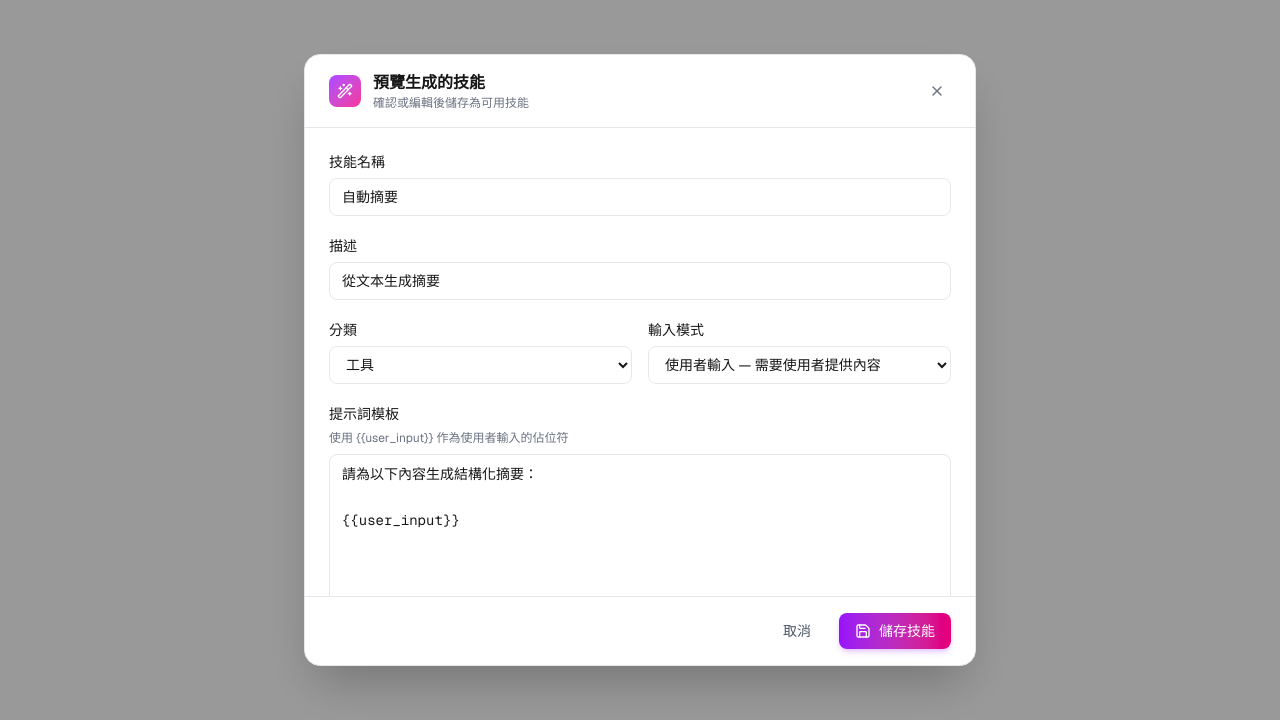
Scenario: SkillPreviewDialog › Skill Config Editor › should disable save button when display_name is too short
The width and height of the screenshot is (1280, 720).
Replace the text in the field with test id "skill-name-input" with "a" at [640, 197], box [329,178,951,216]
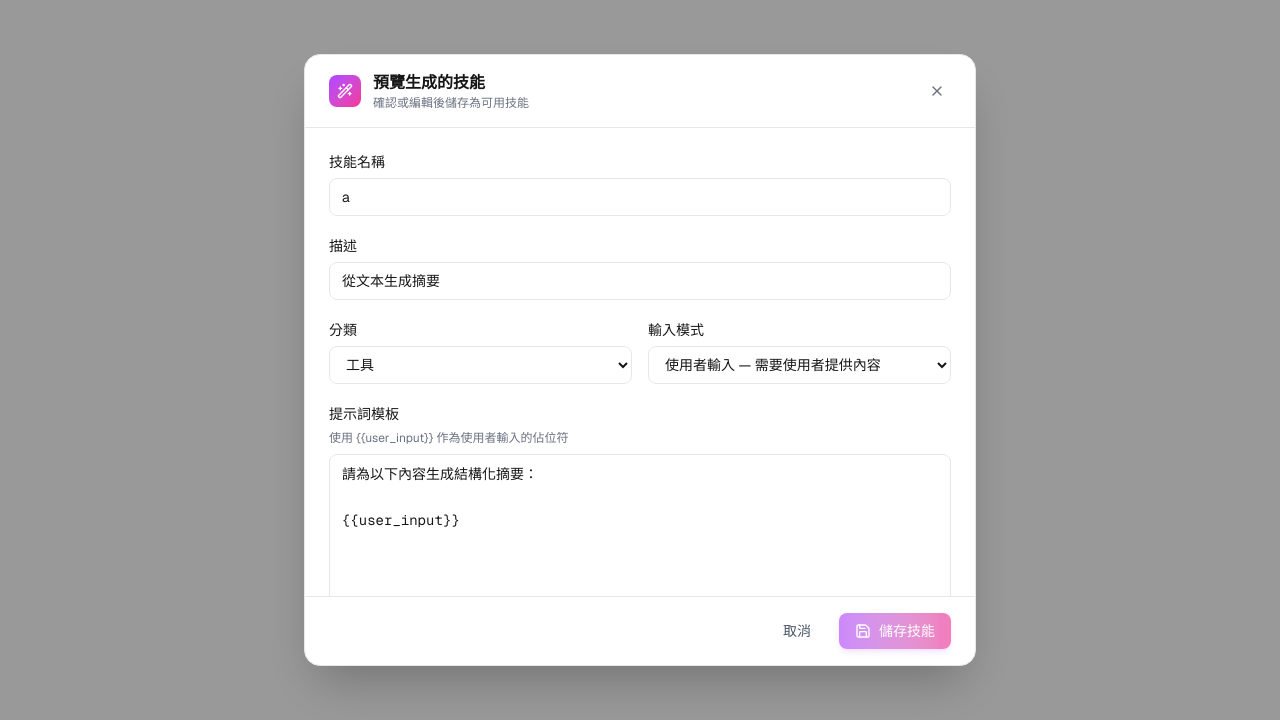
Expected: the button with test id "save-skill-btn" is disabled, [839,613,951,649]
